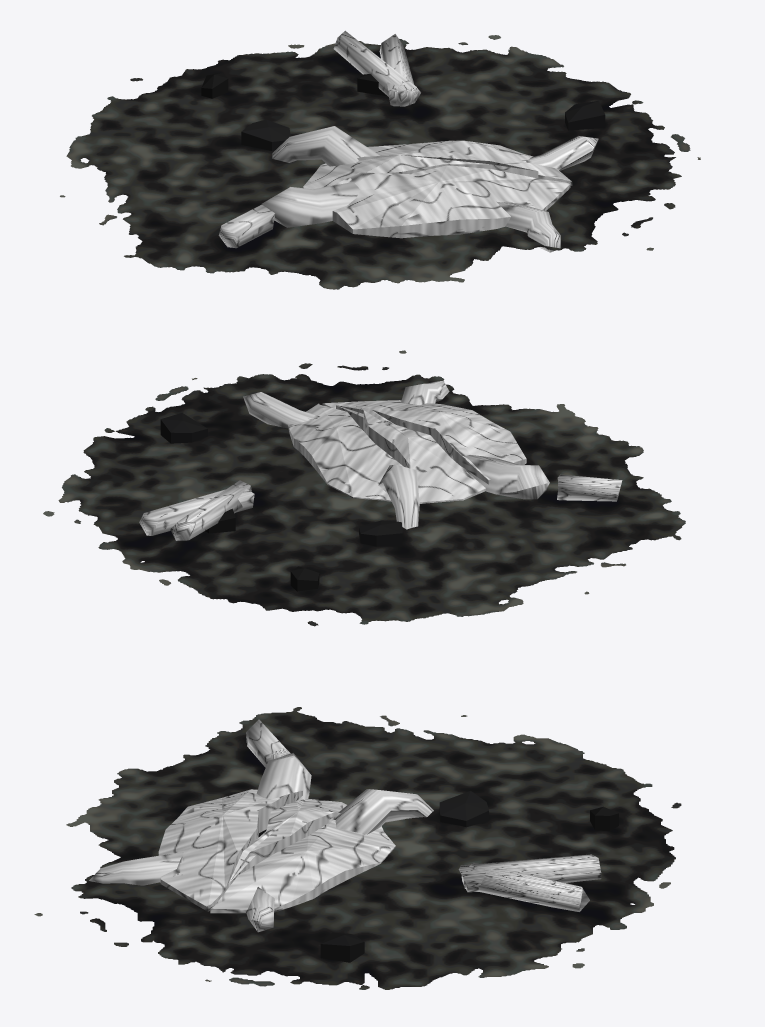
The model's file is CreTreesmudge06.glb.
3 views of the same model, one above another, from view 1: azimuth 30°, elevation 25°; view 2: azimuth 150°, elevation 25°; view 3: azimuth 270°, elevation 25° (orthographic). The views are drawn at different scales.
Parts seen in each view (by area): view 1: CreTreesmudge06_bed; view 2: CreTreesmudge06_bed; view 3: CreTreesmudge06_bed.
Boxes of the visible parts, box(x1,y1,x2,y2) form: CreTreesmudge06_bed: box(60, 30, 700, 289); CreTreesmudge06_bed: box(43, 350, 685, 626); CreTreesmudge06_bed: box(34, 707, 681, 989).
Bounding box in the file's own units: 3.66 × 0.2977 × 3.42.
3 materials, 2 textured.
